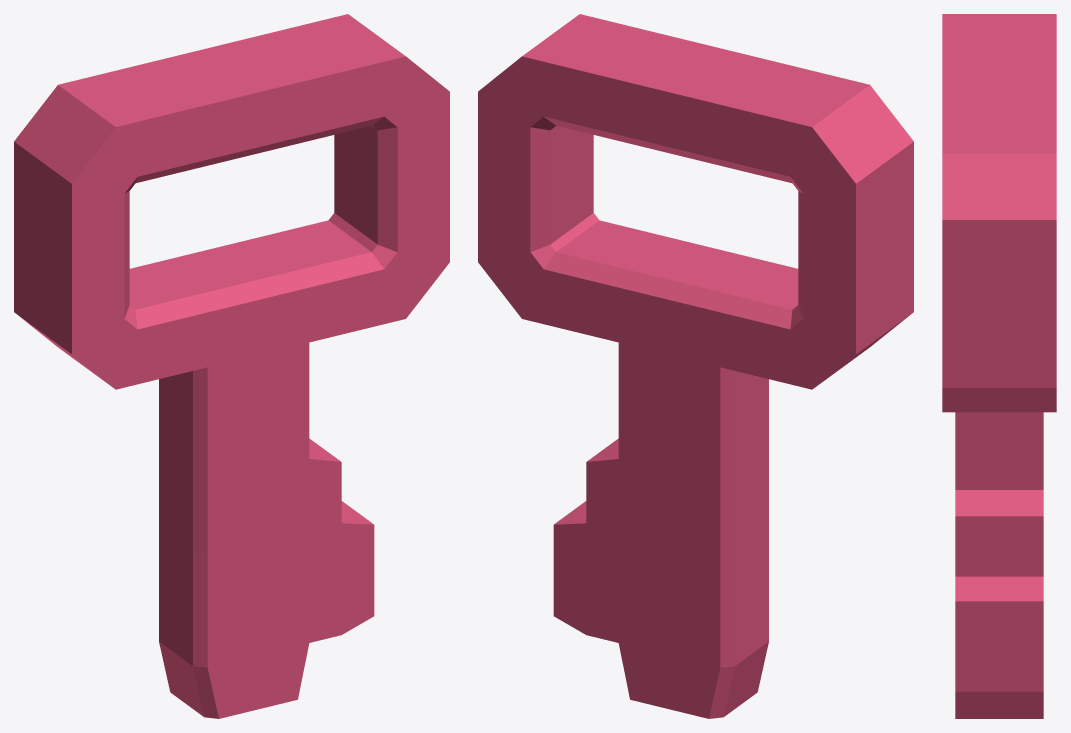
File: Key.fbx
3 views of the same model, side by side, from view 1: azimuth 30°, elevation 25°; view 2: azimuth 150°, elevation 25°; view 3: azimuth 270°, elevation 25° (orthographic).
Visible parts, largest first — view 1: Key; view 2: Key; view 3: Key.
Boxes of the visible parts, left/top/right/bottom form: Key: left=14, top=14, right=449, bottom=718; Key: left=478, top=14, right=913, bottom=718; Key: left=942, top=14, right=1056, bottom=718.
Bounding box in the file's own units: 0.303 × 0.4775 × 0.0804.
